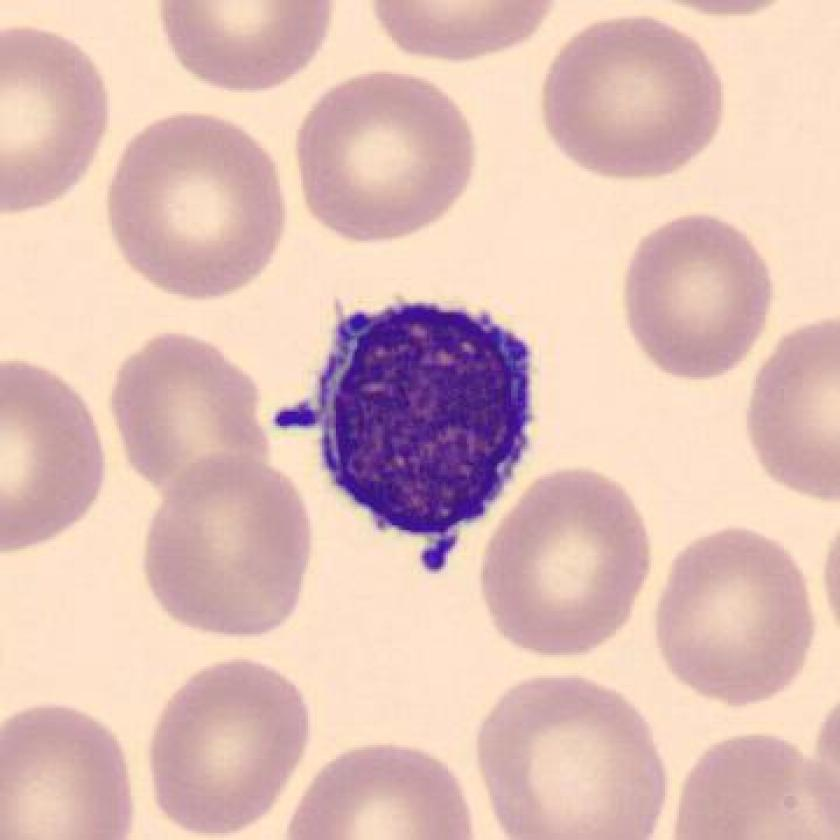lymphocyte: (262, 277, 568, 585)
